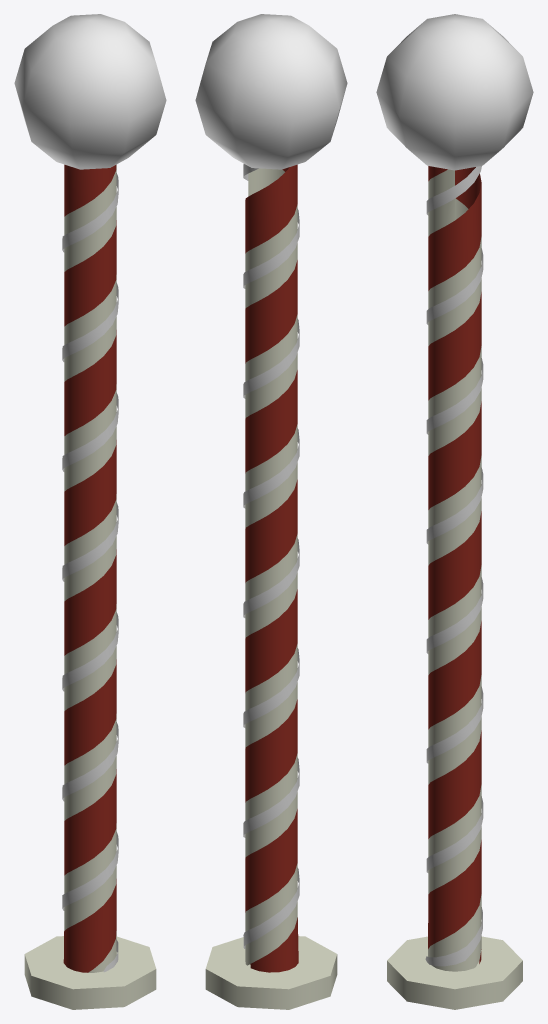
File: ChristmasLamppost_01.fbx
The picture shows the model from 3 angles, left to right: view 1: azimuth 30°, elevation 25°; view 2: azimuth 150°, elevation 25°; view 3: azimuth 270°, elevation 25°; orthographic projection.
Parts seen in each view (by area): view 1: ChristmasLamppost_01, ChristmasLamppost_01_Light; view 2: ChristmasLamppost_01, ChristmasLamppost_01_Light; view 3: ChristmasLamppost_01, ChristmasLamppost_01_Light.
Boxes of the visible parts, x1,y1,x2,y2 form: ChristmasLamppost_01: [14, 14, 166, 1009]; ChristmasLamppost_01_Light: [62, 173, 118, 972]; ChristmasLamppost_01: [195, 14, 347, 1009]; ChristmasLamppost_01_Light: [243, 164, 299, 948]; ChristmasLamppost_01: [376, 14, 533, 1009]; ChristmasLamppost_01_Light: [425, 166, 483, 966].
Bounding box in the file's own units: 0.1588 × 1.07 × 0.1588.
